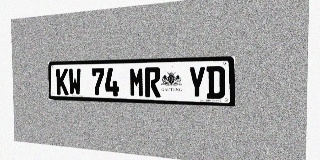4: (105, 68, 119, 96)
7: (91, 68, 105, 96)
D: (206, 66, 225, 99)
K: (56, 69, 68, 95)
M: (129, 67, 144, 97)
R: (145, 67, 161, 97)
W: (68, 68, 81, 95)
Y: (188, 66, 206, 99)
